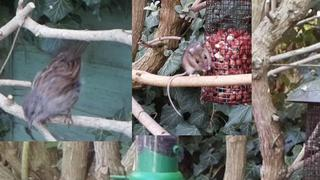dunnock: (22, 40, 92, 129)
mouse: (166, 40, 212, 118)
